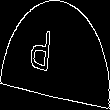P_S: (42, 27, 68, 83)
